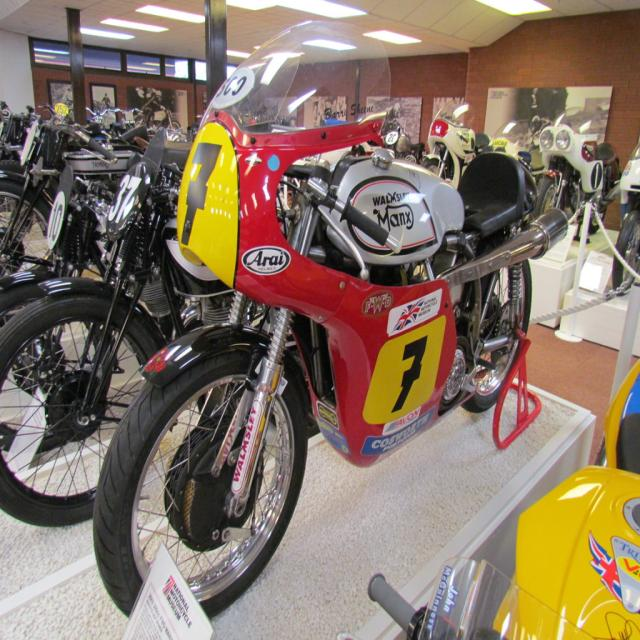Motorbikes: (81, 31, 567, 626)
